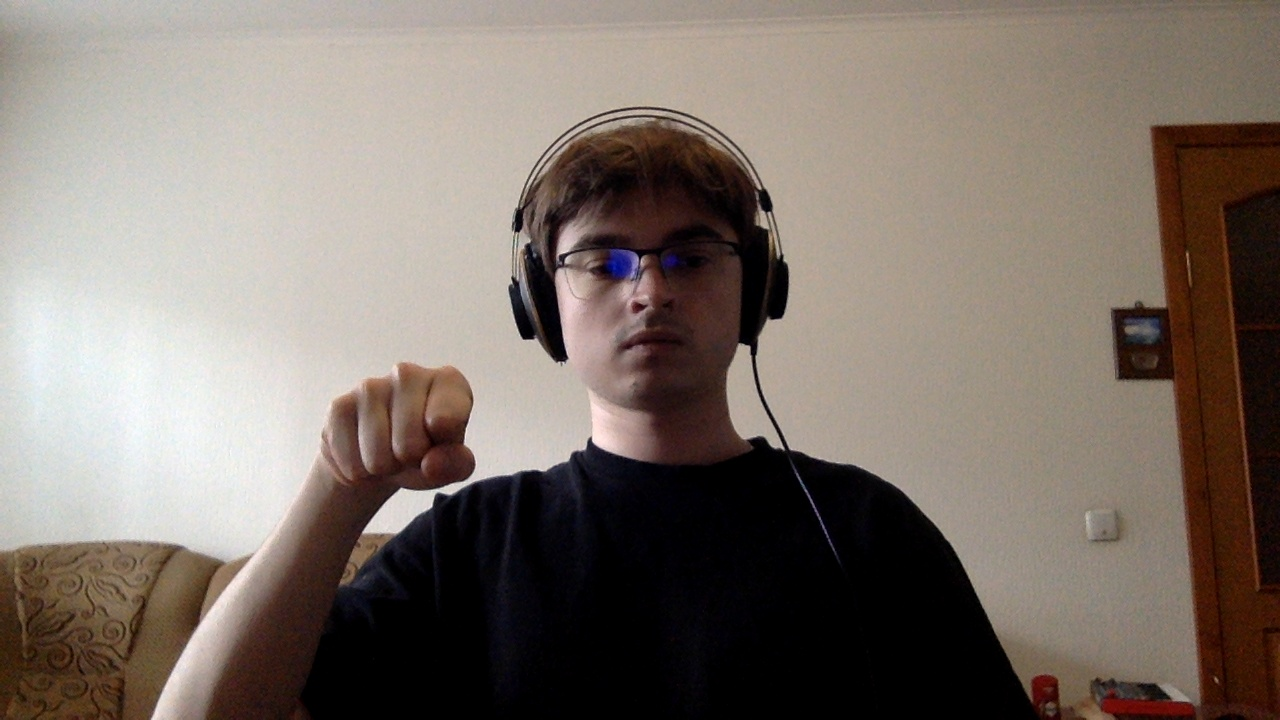yes: (260, 296, 534, 540)
